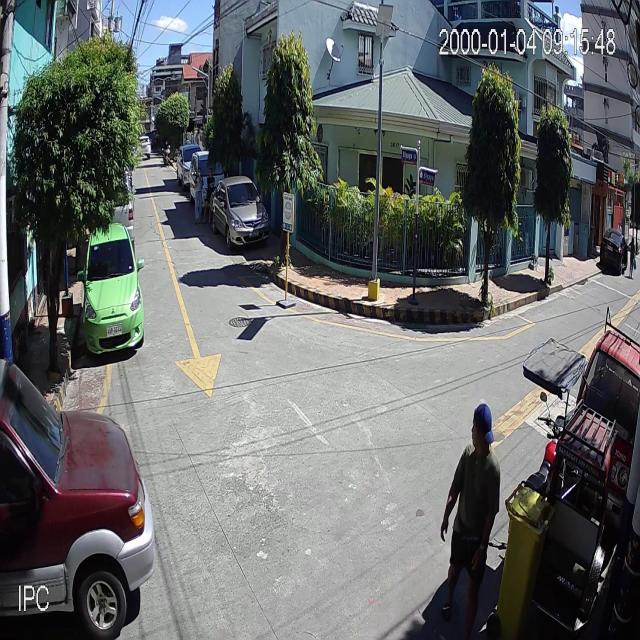walking: (441, 402, 498, 640)
